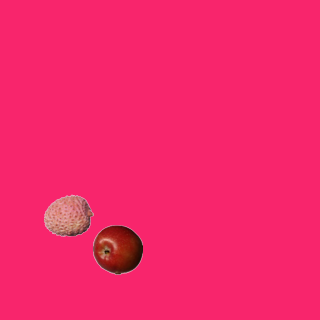Apple Braeburn: (92, 224, 142, 274)
Lychee: (43, 190, 93, 240)
